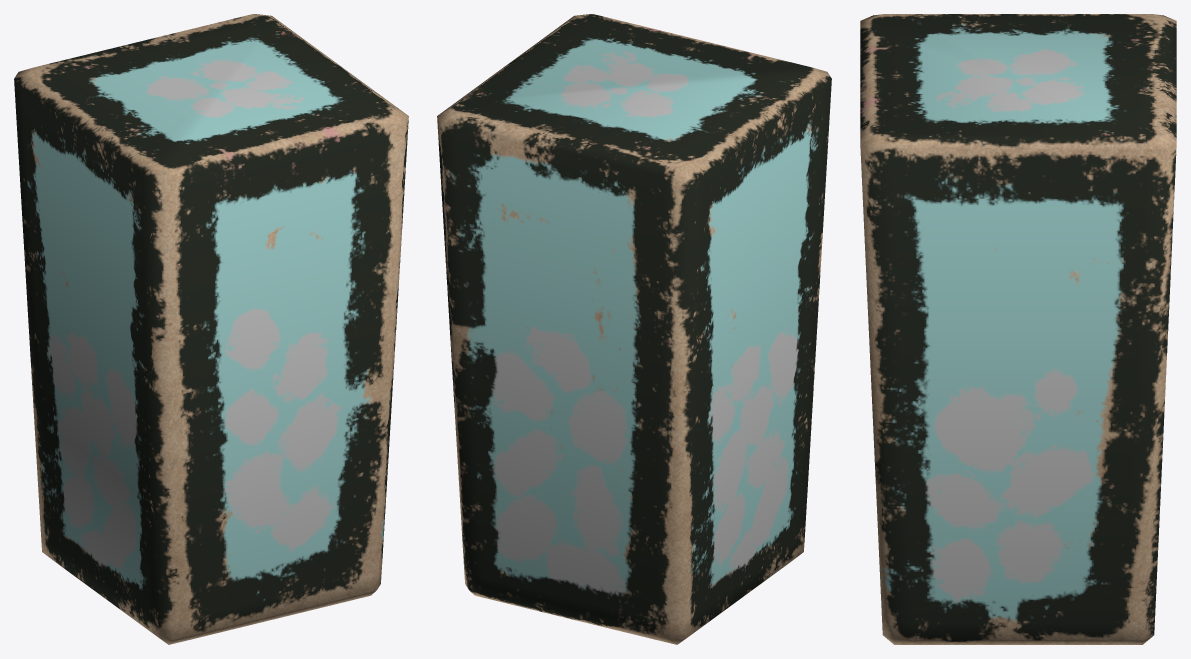
File: 20s_Glass.fbx
3 renders of one model, left to right at view 1: azimuth 30°, elevation 25°; view 2: azimuth 150°, elevation 25°; view 3: azimuth 270°, elevation 25°, orthographic. The views are drawn at different scales.
Visible parts, largest first — view 1: 20s_Glass; view 2: 20s_Glass; view 3: 20s_Glass.
Part boxes in pixels (bbox=[...]): 20s_Glass: bbox=[14, 14, 408, 644]; 20s_Glass: bbox=[437, 14, 831, 644]; 20s_Glass: bbox=[860, 14, 1176, 644].
Size of the model in its own units: 26.84 by 48.37 by 26.84.
